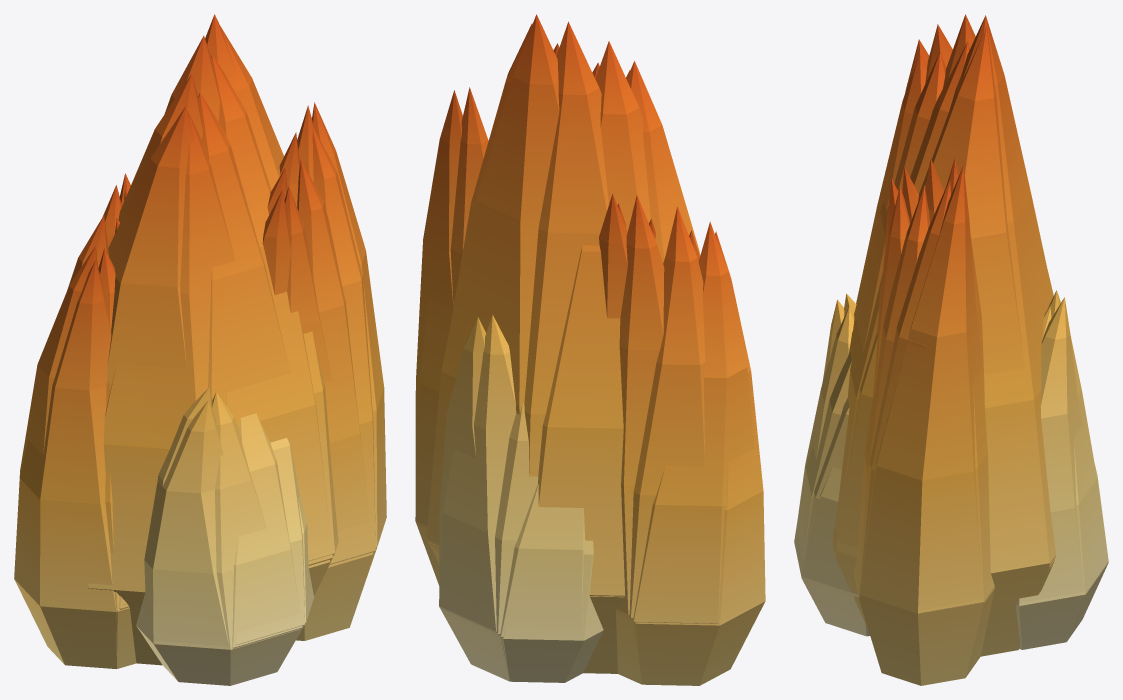
File: brazier_flame.glb
3 renders of one model, left to right at view 1: azimuth 30°, elevation 25°; view 2: azimuth 150°, elevation 25°; view 3: azimuth 270°, elevation 25°, orthographic. The views are drawn at different scales.
Parts seen in each view (by area): view 1: flame_03, flame_06, flame_05, flame_04, flame_02, flame_07, flame_00, flame_01; view 2: flame_02, flame_03, flame_04, flame_01, flame_05, flame_00, flame_06, flame_07; view 3: flame_04, flame_02, flame_01, flame_05, flame_06, flame_00, flame_07, flame_03.
Boxes of the visible parts, x1,y1,x2,y2 form: flame_03: (14, 35, 375, 668); flame_06: (88, 114, 302, 670); flame_05: (107, 105, 315, 685); flame_04: (98, 74, 386, 680); flame_02: (19, 14, 373, 640); flame_07: (120, 93, 330, 666); flame_00: (102, 54, 333, 623); flame_01: (68, 26, 349, 640); flame_02: (426, 14, 754, 682); flame_03: (427, 21, 765, 685); flame_04: (415, 41, 699, 562); flame_01: (450, 23, 705, 684); flame_05: (415, 61, 700, 596); flame_00: (499, 43, 664, 679); flame_06: (417, 70, 630, 673); flame_07: (441, 62, 627, 681); flame_04: (822, 24, 1055, 685); flame_02: (836, 15, 1056, 662); flame_01: (832, 26, 1024, 626); flame_05: (798, 39, 1084, 668); flame_06: (794, 51, 1108, 677); flame_00: (802, 41, 1108, 636); flame_07: (794, 51, 1108, 641); flame_03: (844, 14, 1056, 665).
Size of the model in its own units: 0.5308 by 0.9024 by 0.4181.
